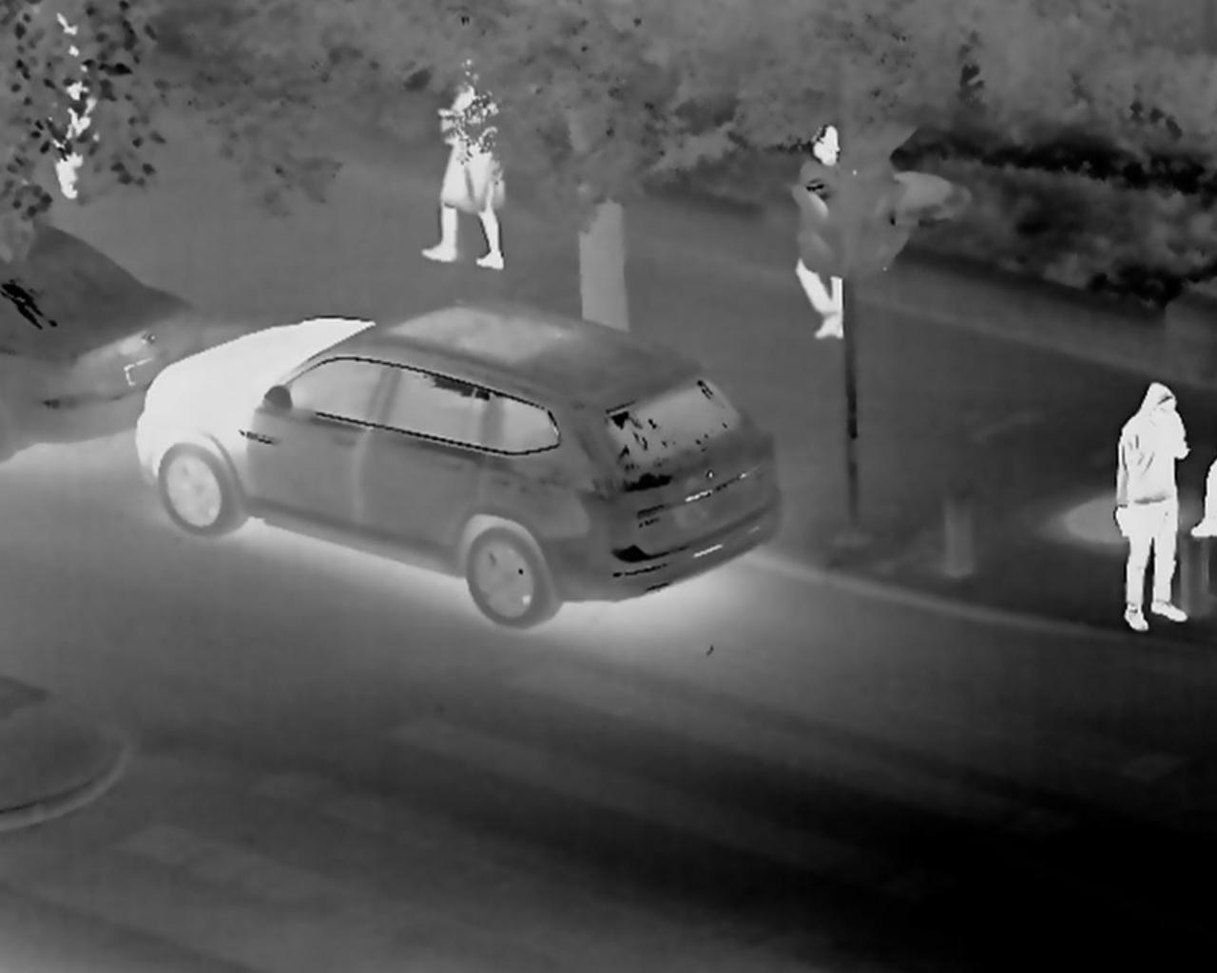person: (1112, 378, 1190, 635), (423, 50, 506, 269), (792, 118, 847, 341), (38, 3, 97, 203)
